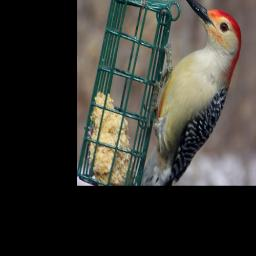Woodpecker: (143, 0, 242, 185)
